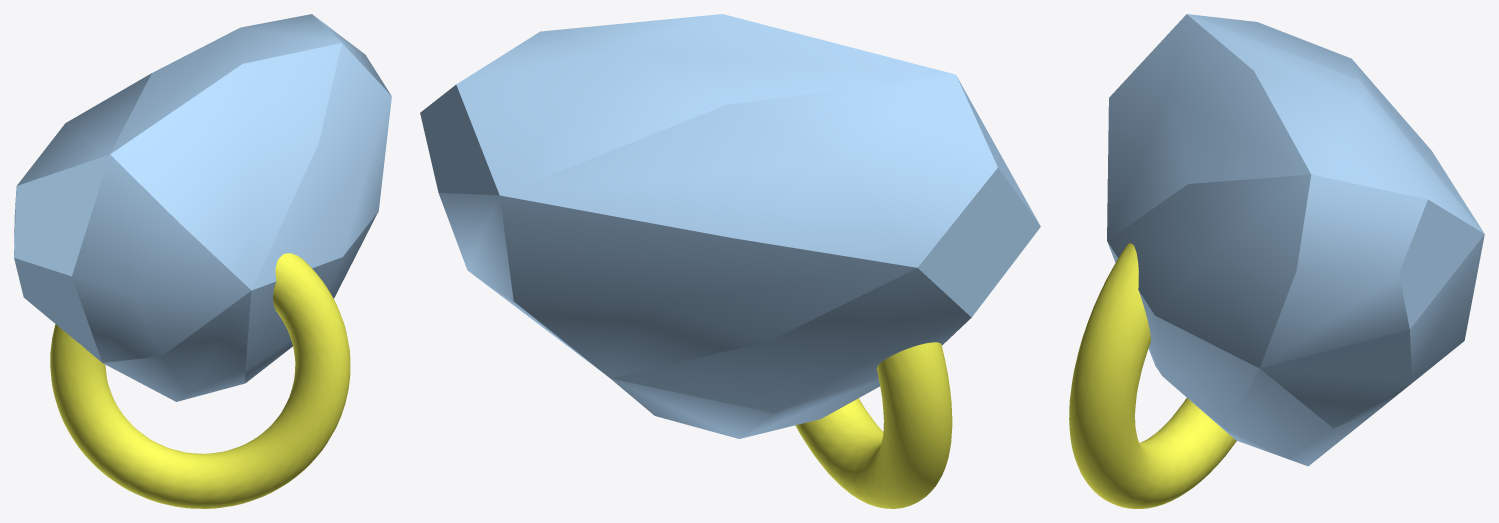
3 views of the same model, side by side, from view 1: azimuth 30°, elevation 25°; view 2: azimuth 150°, elevation 25°; view 3: azimuth 270°, elevation 25° (orthographic). The views are drawn at different scales.
Visible parts, largest first — view 1: 425, Torus.002; view 2: 425, Torus.002; view 3: 425, Torus.002.
Boxes of the visible parts, x1,y1,x2,y2 form: 425: (14, 14, 391, 401); Torus.002: (50, 253, 350, 508); 425: (420, 14, 1040, 438); Torus.002: (795, 342, 952, 508); 425: (1107, 14, 1484, 466); Torus.002: (1069, 243, 1236, 508).
Size of the model in its own units: 12.73 by 9.01 by 11.27.
